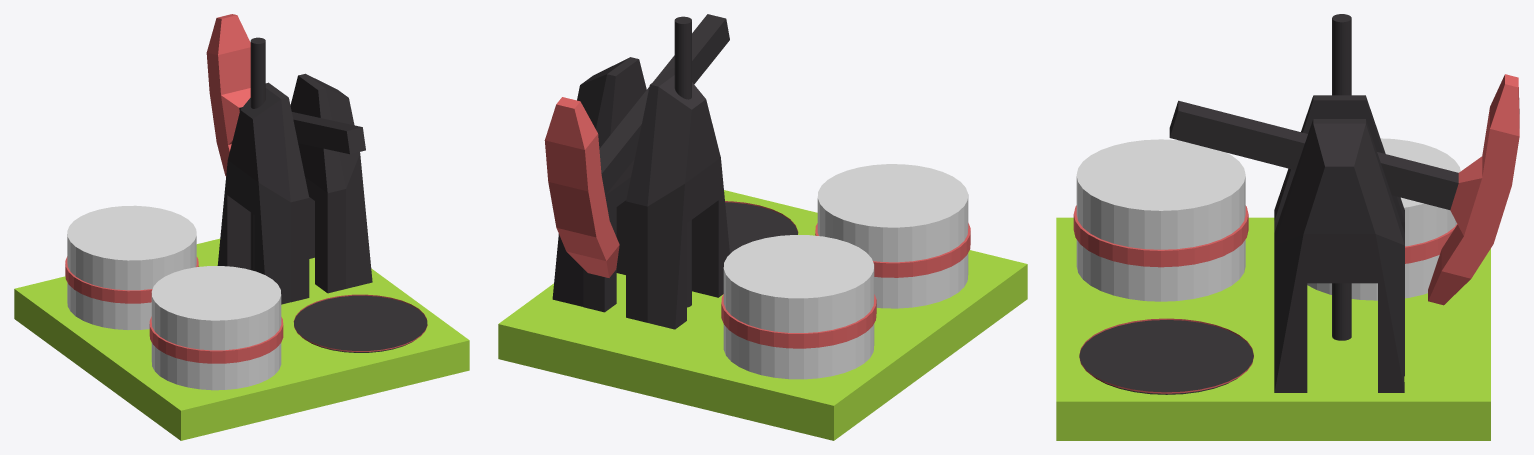
File: OilRig.fbx
The picture shows the model from 3 angles, left to right: view 1: azimuth 30°, elevation 25°; view 2: azimuth 150°, elevation 25°; view 3: azimuth 270°, elevation 25°; orthographic projection. The views are drawn at different scales.
Visible parts, largest first — view 1: Grass, Tower, Cylinder.004, Cylinder.003, Hammer, Cylinder.001, Pipe; view 2: Grass, Tower, Cylinder.003, Cylinder.004, Hammer, Cylinder.001, Pipe; view 3: Grass, Tower, Cylinder.004, Hammer, Cylinder.001, Cylinder.003, Pipe.
Boxes of the visible parts, <box> form: Grass: <box>14,238,469,440</box>; Tower: <box>217,73,372,304</box>; Cylinder.004: <box>149,266,283,390</box>; Cylinder.003: <box>65,205,198,329</box>; Hammer: <box>206,14,365,176</box>; Cylinder.001: <box>293,294,427,352</box>; Pipe: <box>250,37,265,270</box>; Grass: <box>498,190,1027,440</box>; Tower: <box>552,57,729,329</box>; Cylinder.003: <box>721,235,876,379</box>; Cylinder.004: <box>815,164,970,308</box>; Hammer: <box>544,14,729,277</box>; Cylinder.001: <box>725,201,798,253</box>; Pipe: <box>674,16,691,307</box>; Grass: <box>1056,217,1490,440</box>; Tower: <box>1274,95,1404,392</box>; Cylinder.004: <box>1073,139,1248,301</box>; Hammer: <box>1169,74,1519,305</box>; Cylinder.001: <box>1079,318,1253,394</box>; Cylinder.003: <box>1307,138,1460,300</box>; Pipe: <box>1332,14,1351,340</box>.
Bounding box in the file's own units: 200 × 182 × 213.
